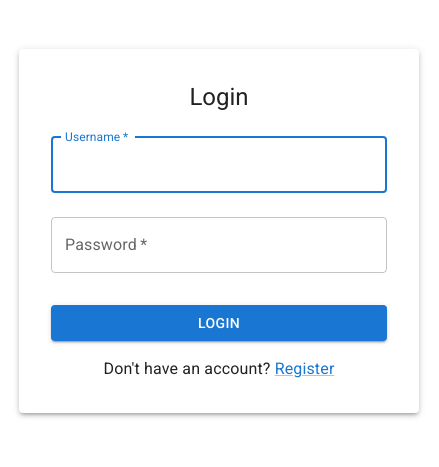
Test: Login › shows error message on login failure
Type "testuser" into the field at (219, 165), box [51,137,387,193]
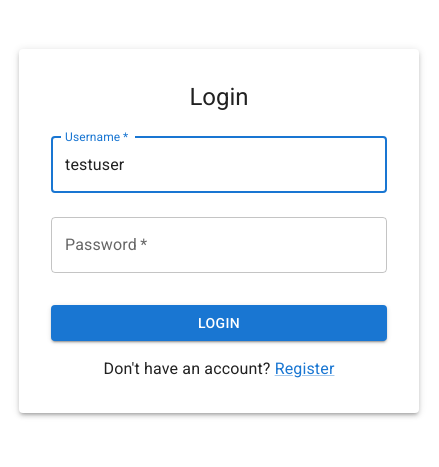
Type "wrongpass" into the password field labelled "Password *" at (219, 245), box [51,217,387,273]
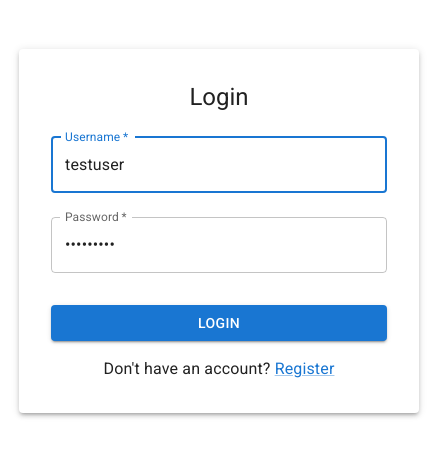
Click the button "Login" at (219, 323), box [51,305,387,342]
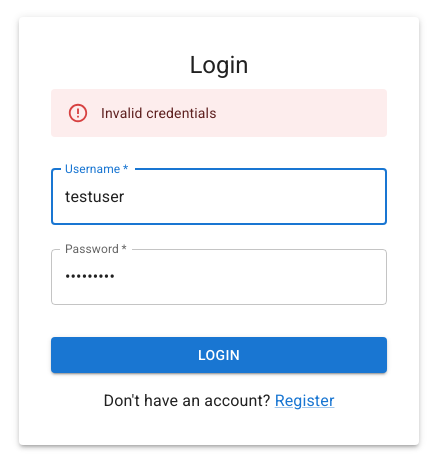
Now the text "Invalid credentials" is shown, box [101,105,216,121]
